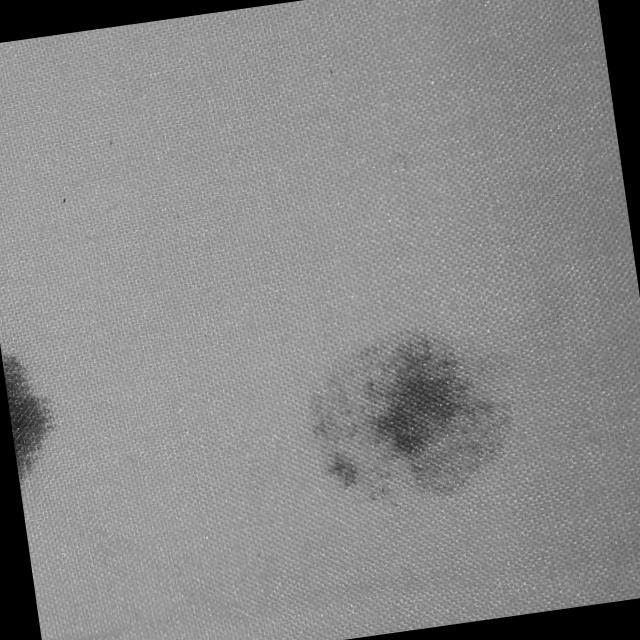Stain: (294, 320, 518, 510), (0, 338, 66, 488)
